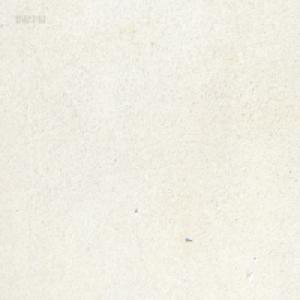Nail: (185, 236, 192, 242)
